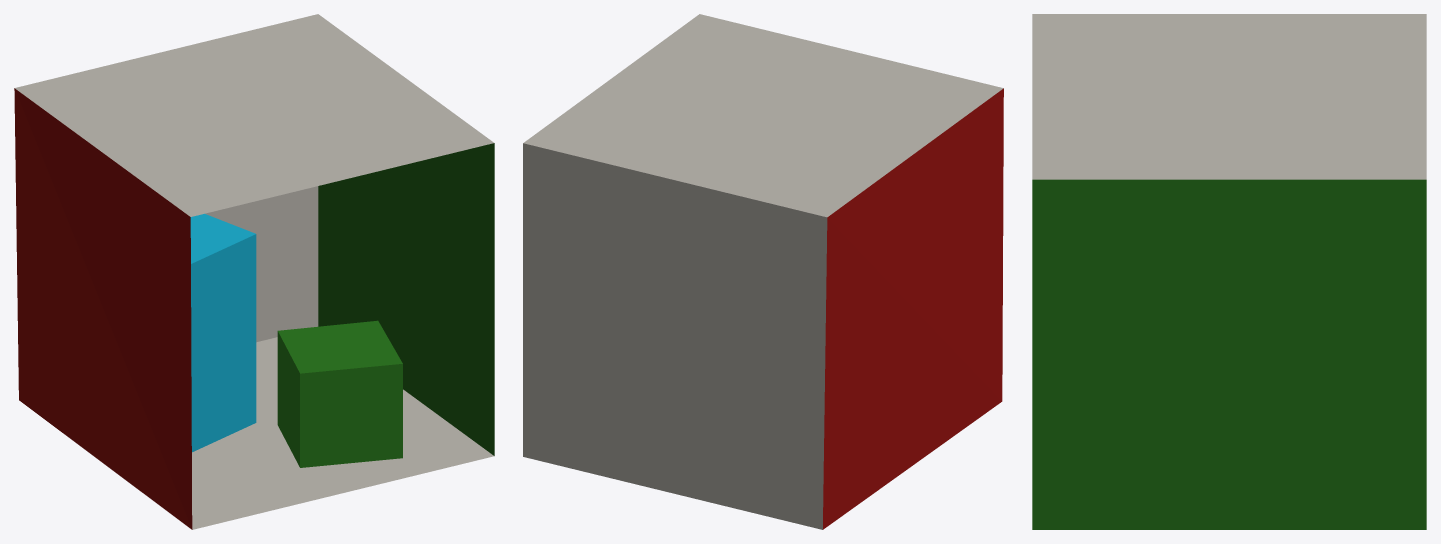
File: CornellBox-Original.obj
3 views of the same model, side by side, from view 1: azimuth 30°, elevation 25°; view 2: azimuth 150°, elevation 25°; view 3: azimuth 270°, elevation 25° (orthographic). The views are drawn at different scales.
Visible parts, largest first — view 1: leftWall, ceiling, rightWall, floor, shortBox, tallBox, backWall; view 2: backWall, leftWall, ceiling; view 3: rightWall, ceiling.
Boxes of the visible parts, bbox=[...] form: leftWall: bbox=[14, 88, 192, 529]; ceiling: bbox=[15, 14, 493, 216]; rightWall: bbox=[318, 143, 494, 455]; floor: bbox=[192, 337, 493, 529]; shortBox: bbox=[277, 320, 402, 467]; tallBox: bbox=[190, 213, 256, 452]; backWall: bbox=[205, 186, 318, 342]; backWall: bbox=[523, 143, 827, 529]; leftWall: bbox=[823, 88, 1003, 529]; ceiling: bbox=[523, 14, 1003, 217]; rightWall: bbox=[1032, 179, 1426, 529]; ceiling: bbox=[1032, 14, 1426, 179].
Bounding box in the file's own units: 2.02 × 1.99 × 2.03.
